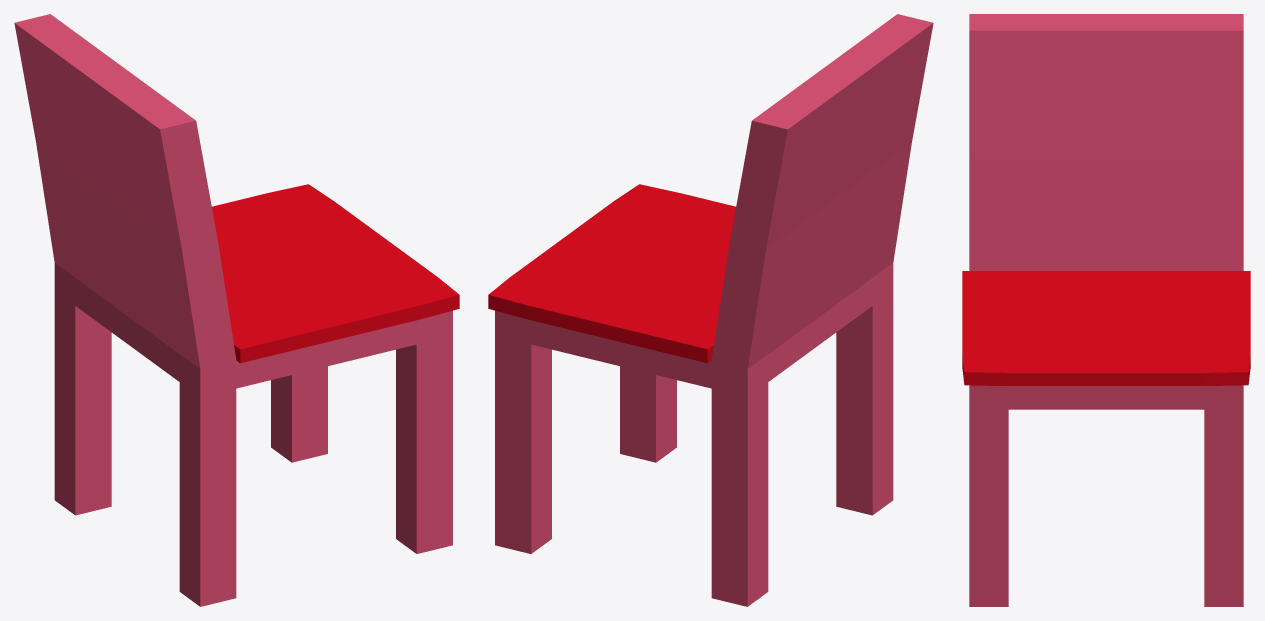
File: silla.fbx
The picture shows the model from 3 angles, left to right: view 1: azimuth 30°, elevation 25°; view 2: azimuth 150°, elevation 25°; view 3: azimuth 270°, elevation 25°; orthographic projection. The views are drawn at different scales.
Visible parts, largest first — view 1: Sphere; view 2: Sphere; view 3: Sphere.
Boxes of the visible parts, x1=… form: Sphere: x1=14, y1=14, x2=459, y2=606; Sphere: x1=488, y1=14, x2=933, y2=606; Sphere: x1=962, y1=14, x2=1250, y2=606.
Size of the model in its own units: 105 by 164 by 93.58.
